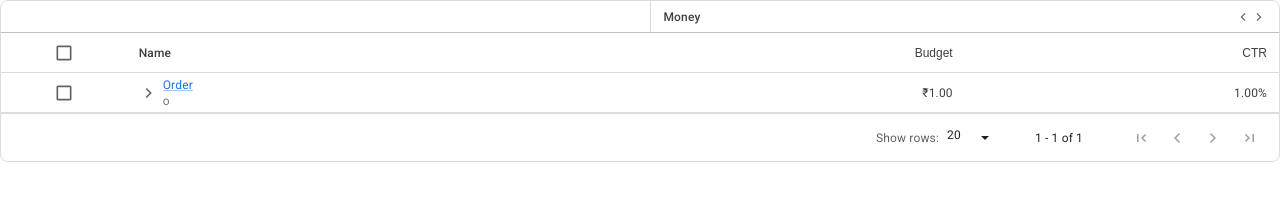
DvGrid › expands tree rows
Expected: the table is shown, [1,1,1279,113]
Expected: the link "Deal" is not shown
Click the button named "Expand row". click: coordinates (149, 92)
box: [139,82,159,102]
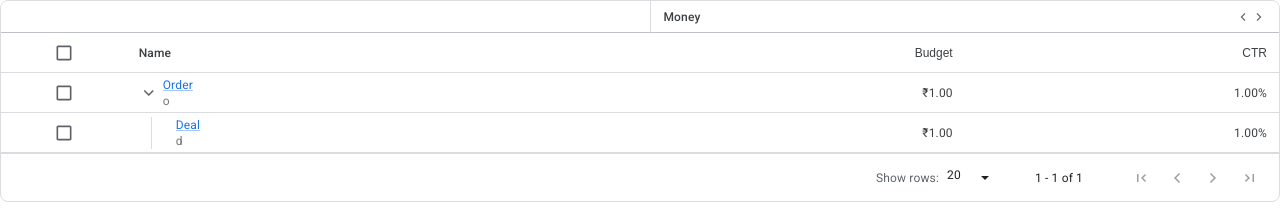
Expected: the link "Deal" is shown, [176,116,200,132]
Click the button named "Collapse row". click: coordinates (149, 92)
box: [139,82,159,102]
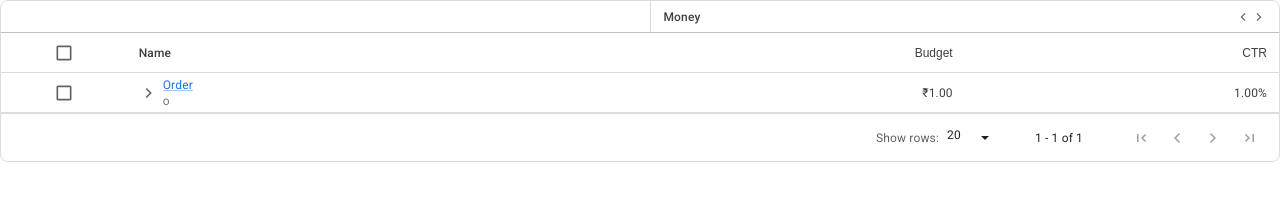
Expected: the link "Deal" is gone
